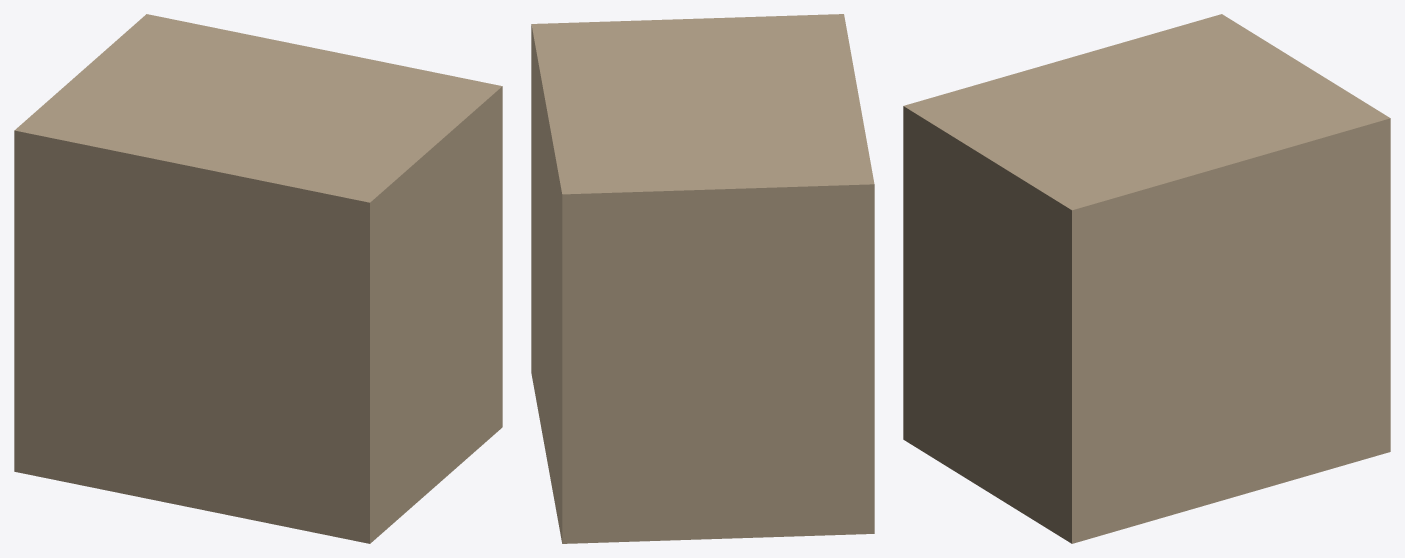
File: bld_106339005.dae
The picture shows the model from 3 angles, left to right: view 1: azimuth 30°, elevation 25°; view 2: azimuth 150°, elevation 25°; view 3: azimuth 270°, elevation 25°; orthographic projection. The views are drawn at different scales.
Visible parts, largest first — view 1: bld_106339005; view 2: bld_106339005; view 3: bld_106339005.
Boxes of the visible parts, x1,y1,x2,y2 form: bld_106339005: (14, 14, 502, 543); bld_106339005: (531, 14, 874, 543); bld_106339005: (903, 14, 1390, 543).
Bounding box in the file's own units: 10.1 × 10.59 × 8.
